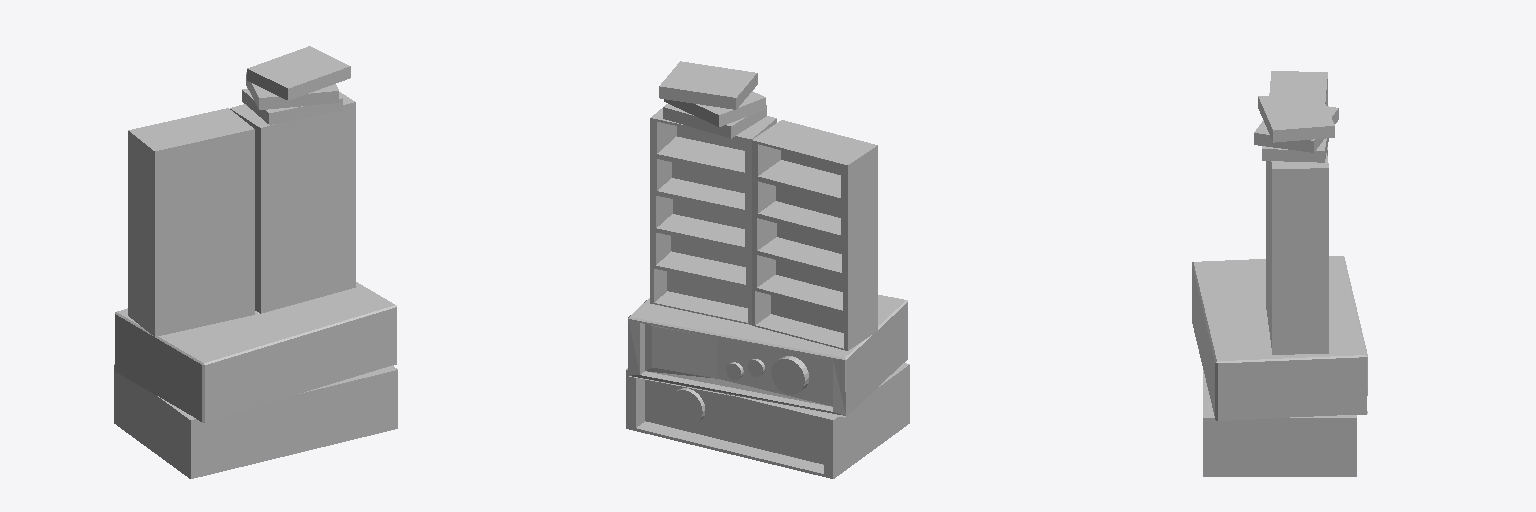
The model's file is CasetteShelf_03.obj.
3 views of the same model, side by side, from view 1: azimuth 30°, elevation 25°; view 2: azimuth 150°, elevation 25°; view 3: azimuth 270°, elevation 25° (orthographic).
Parts seen in each view (by area): view 1: group6 pCube88, group6 polySurface3, group6 pCube51, group6 polySurface1, group6 pCube68, group6 pCube54, group6 pCube53; view 2: group6 pCube88, group6 pCube51, group6 polySurface3, group6 polySurface1, group6 pCube68, group6 pCube54, group6 pCube53, group6 polySurface4; view 3: group6 polySurface3, group6 pCube51, group6 polySurface1, group6 pCube68, group6 pCube88, group6 pCube54, group6 pCube53.
Boxes of the visible parts, x1=… form: group6 pCube88: x1=128, y1=108, x2=254, y2=336; group6 polySurface3: x1=115, y1=282, x2=396, y2=422; group6 pCube51: x1=230, y1=92, x2=355, y2=313; group6 polySurface1: x1=114, y1=364, x2=397, y2=478; group6 pCube68: x1=247, y1=46, x2=350, y2=100; group6 pCube54: x1=246, y1=72, x2=338, y2=109; group6 pCube53: x1=242, y1=88, x2=342, y2=124; group6 pCube88: x1=752, y1=120, x2=877, y2=350; group6 pCube51: x1=650, y1=104, x2=776, y2=324; group6 polySurface3: x1=628, y1=295, x2=907, y2=417; group6 polySurface1: x1=626, y1=363, x2=909, y2=478; group6 pCube68: x1=659, y1=61, x2=757, y2=109; group6 pCube54: x1=664, y1=91, x2=765, y2=126; group6 pCube53: x1=663, y1=104, x2=766, y2=138; group6 polySurface4: x1=771, y1=356, x2=808, y2=394; group6 polySurface3: x1=1192, y1=256, x2=1367, y2=420; group6 pCube51: x1=1266, y1=153, x2=1328, y2=354; group6 polySurface1: x1=1203, y1=370, x2=1356, y2=476; group6 pCube68: x1=1258, y1=92, x2=1334, y2=142; group6 pCube88: x1=1269, y1=71, x2=1327, y2=155; group6 pCube54: x1=1254, y1=106, x2=1338, y2=152; group6 pCube53: x1=1262, y1=138, x2=1328, y2=162.
Bounding box in the file's own units: 47.08 × 69.6 × 32.74.